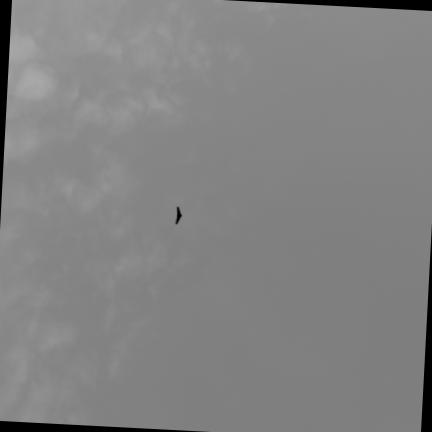Shahed: (175, 207, 181, 224)
